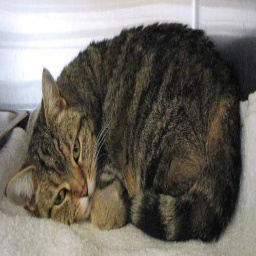cat: (9, 20, 242, 239)
